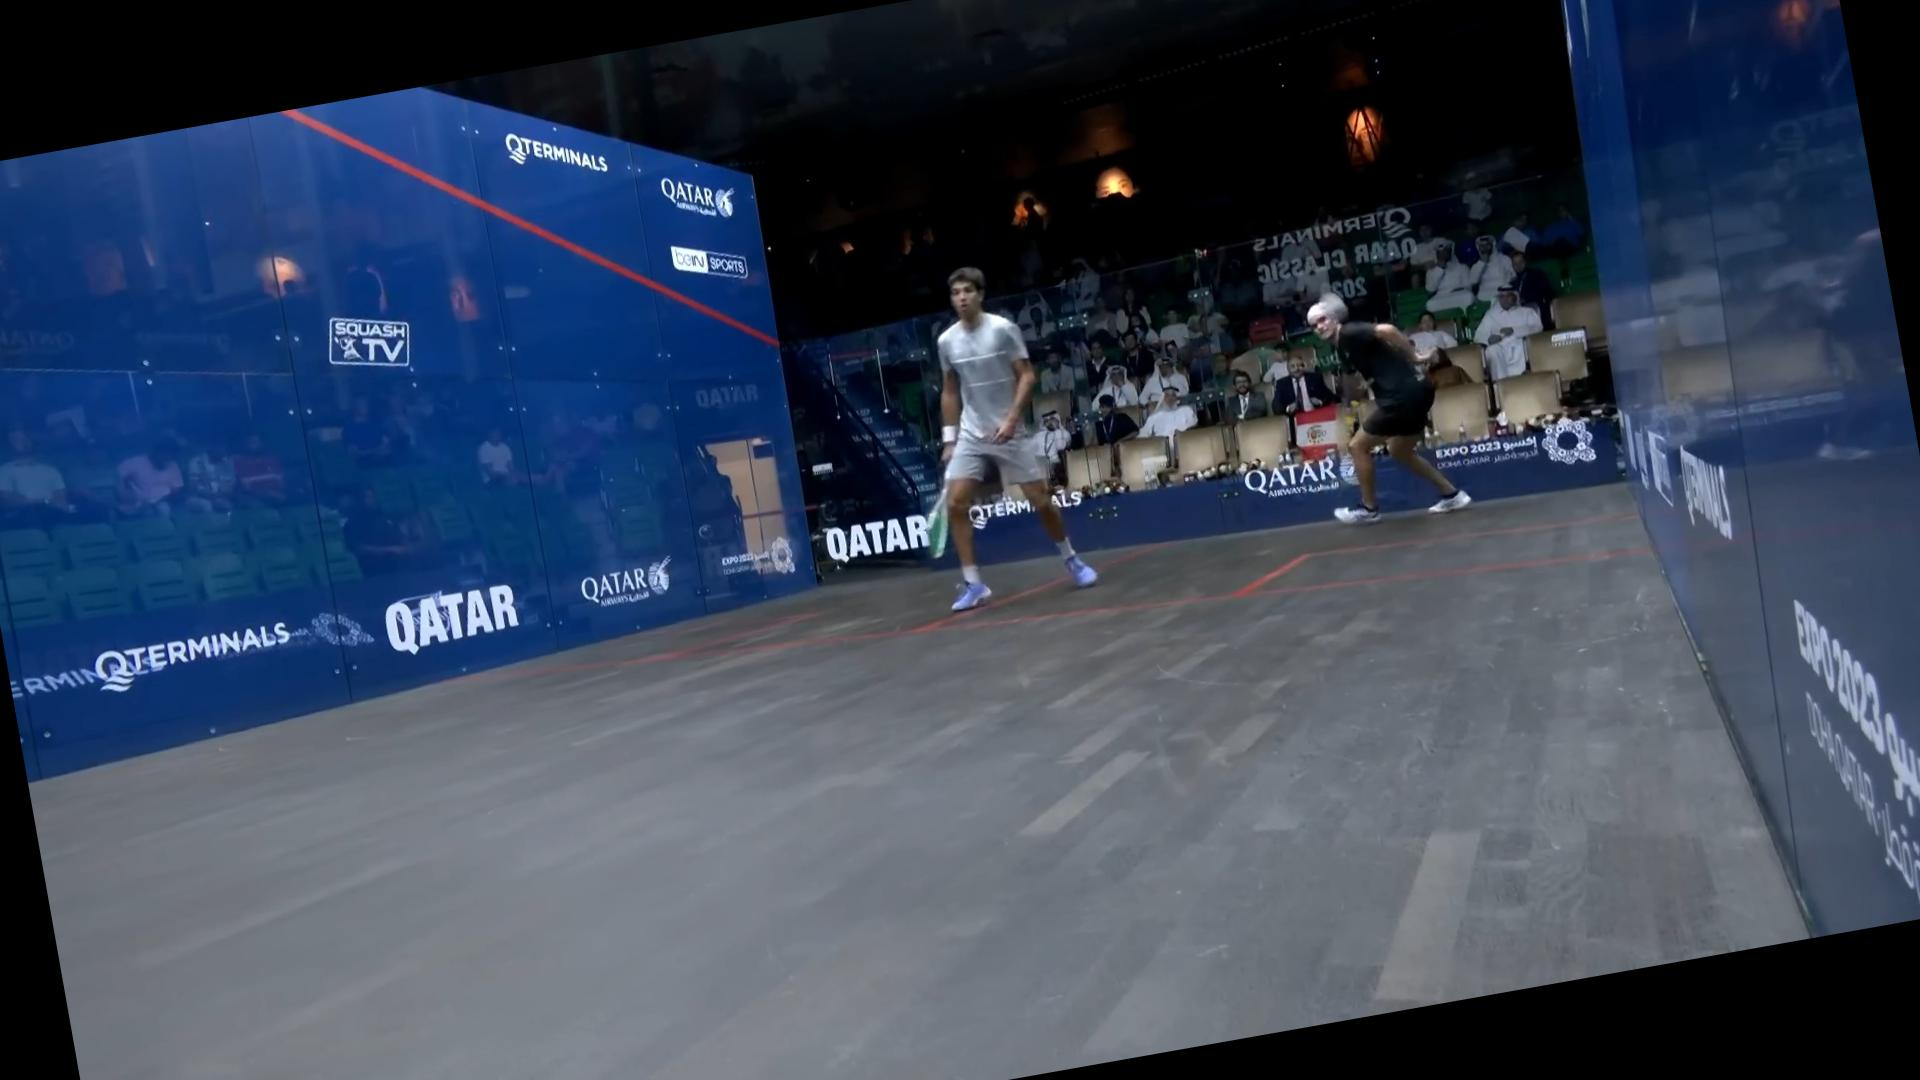Racket: (905, 458, 973, 564)
